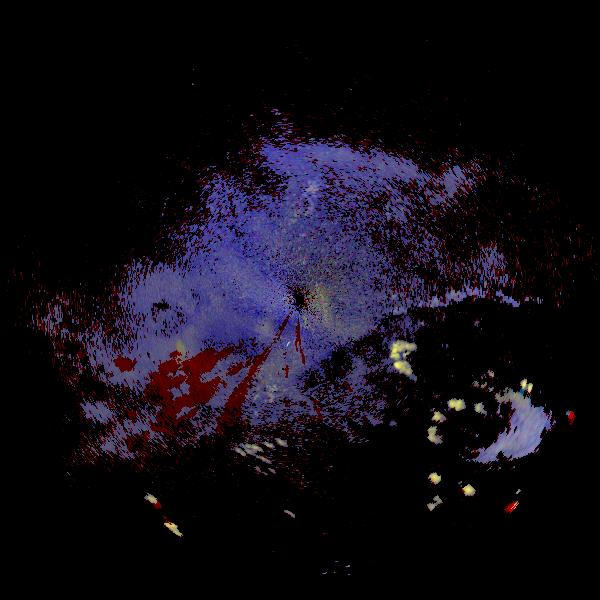roost: (139, 332, 196, 389)
